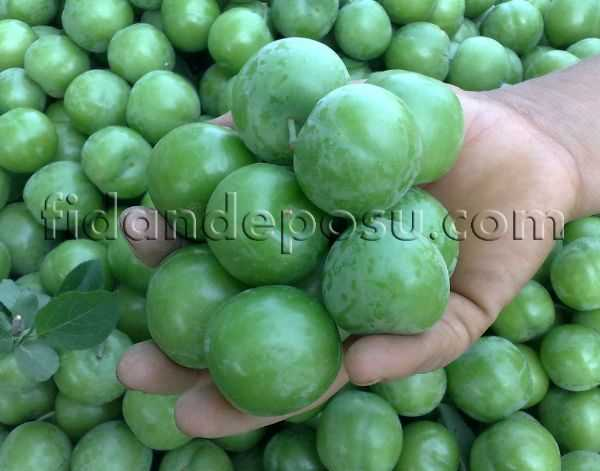Plum: (285, 87, 425, 225), (193, 285, 333, 418), (320, 219, 452, 330), (77, 127, 154, 199)
